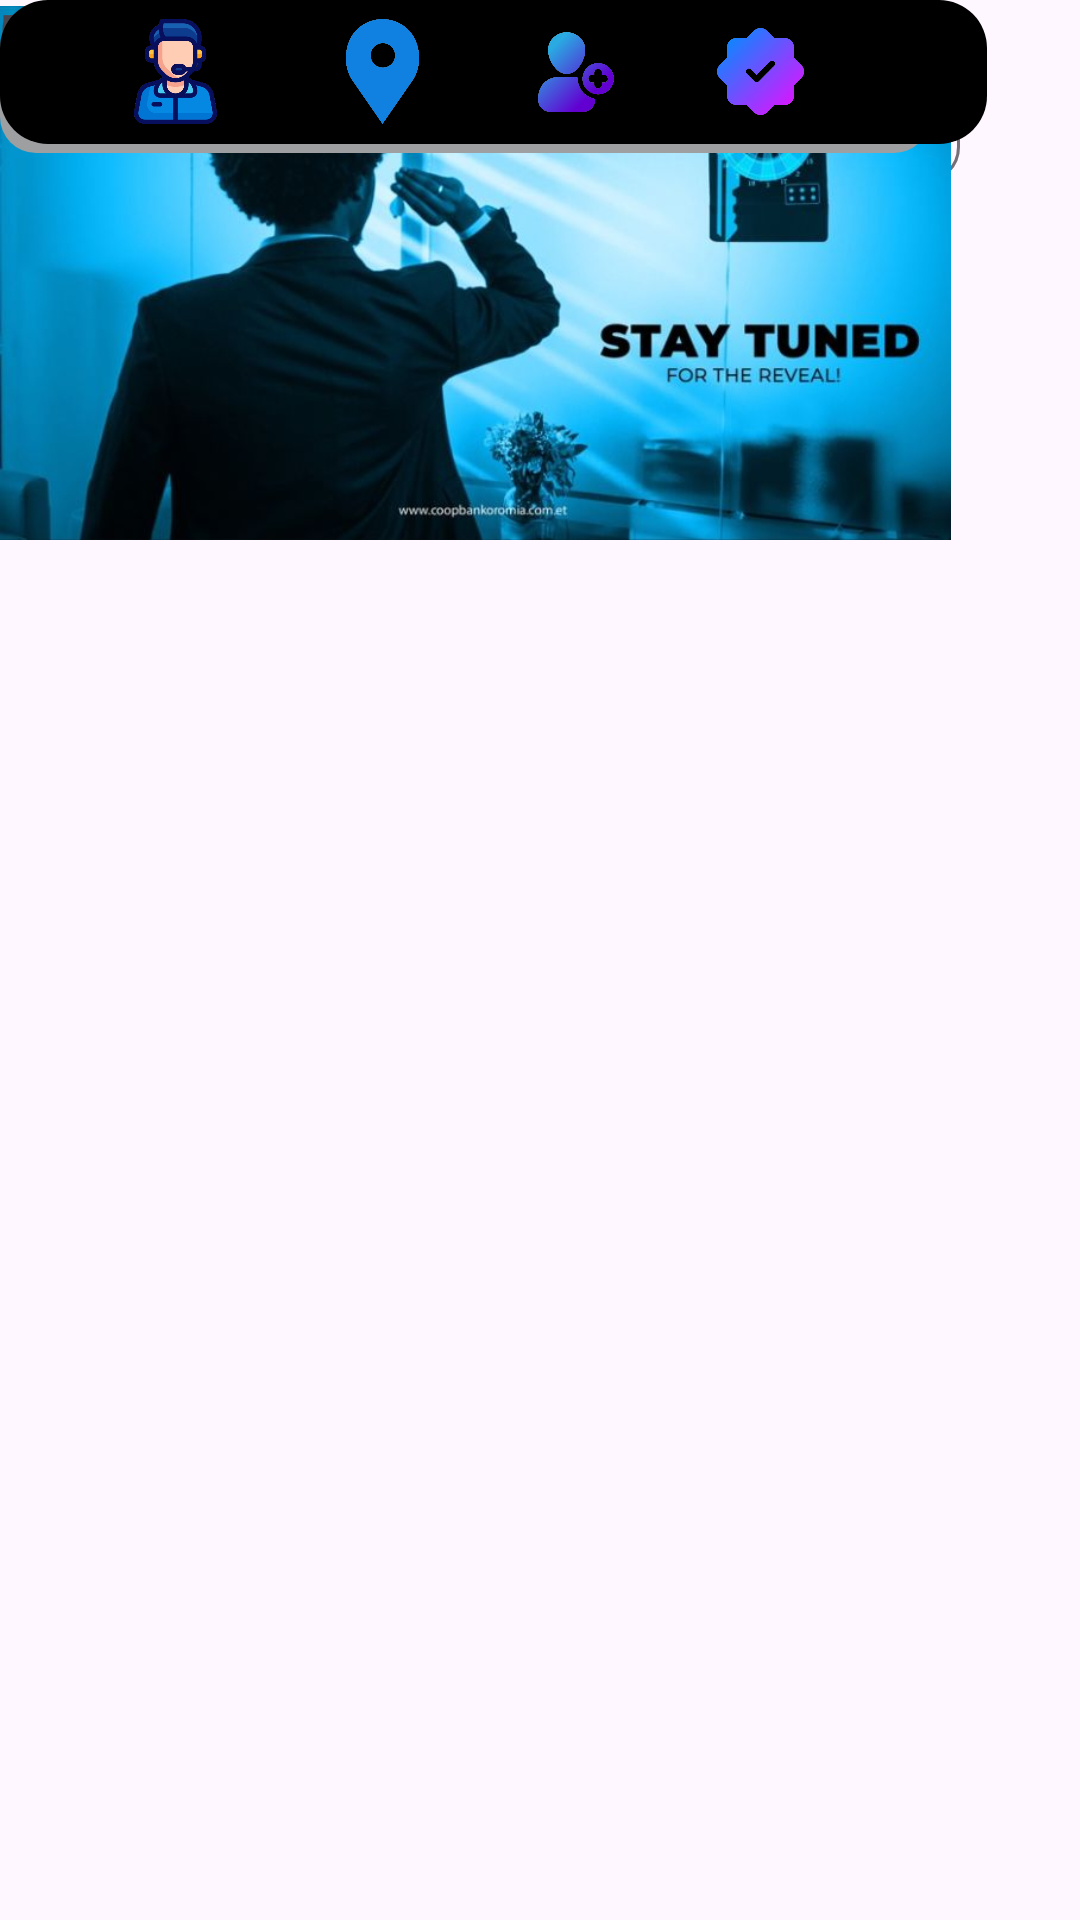

Where to tap for icons on this 1080×1920 app screen, as (x=x, y=y):
location: (x=382, y=71)
register: (x=576, y=72)
support: (x=175, y=71)
verify: (x=760, y=71)
